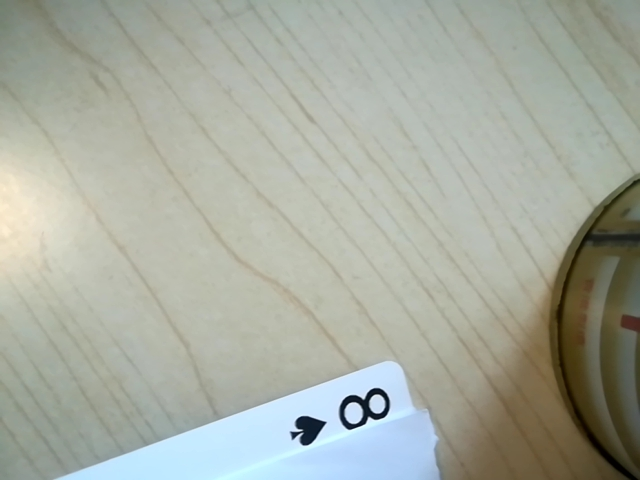ht 8: (271, 379, 412, 455)
